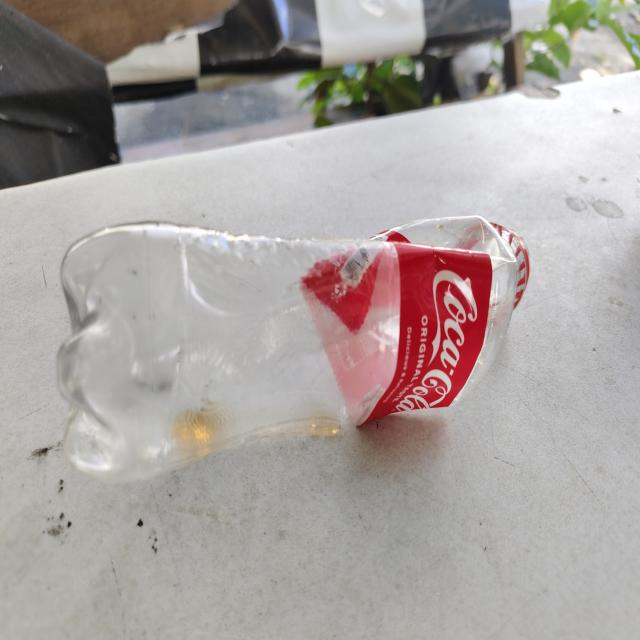Bottle: (57, 216, 529, 480)
